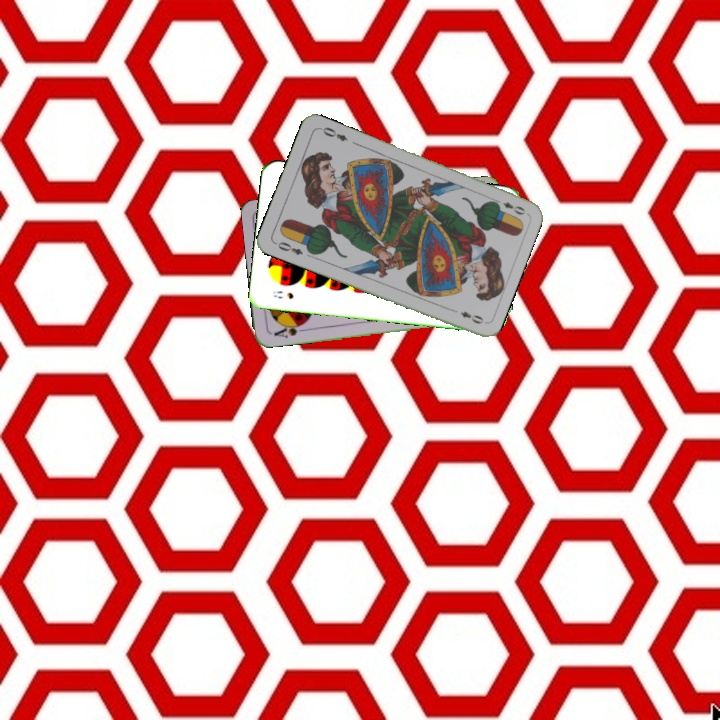EO: (489, 195, 528, 217), (271, 238, 306, 258)
S8: (269, 287, 296, 302)
SA: (270, 319, 309, 340)
